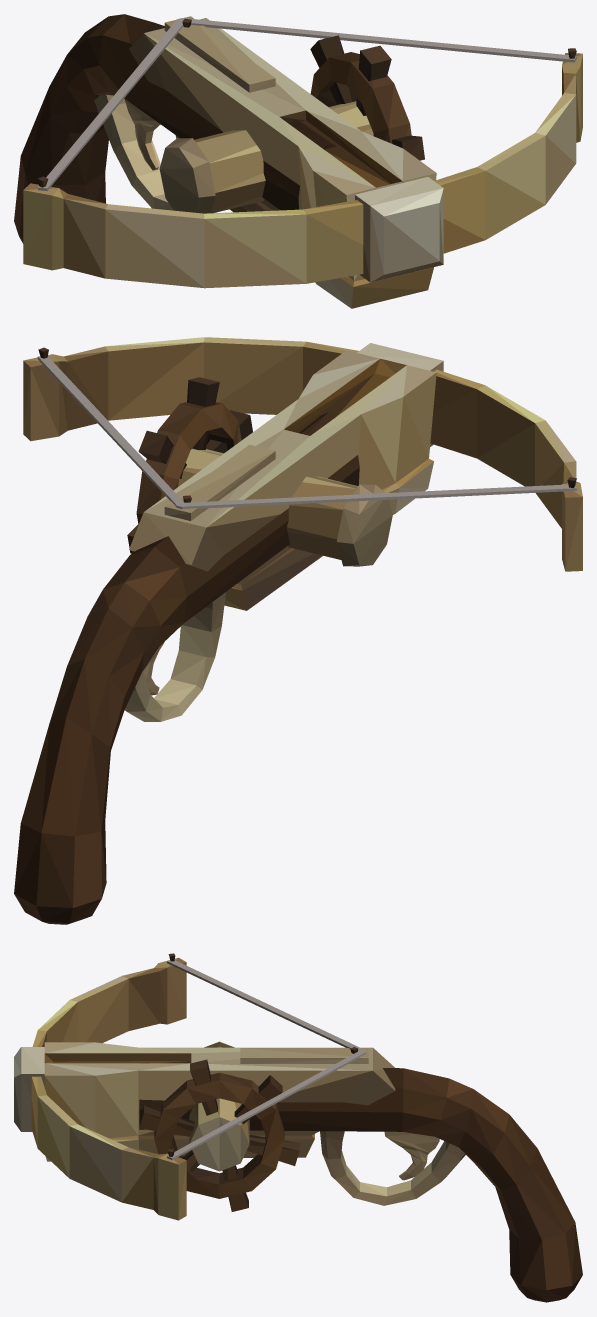
File: weapon_crossbow_gold_1.fbx
3 renders of one model, top to bottom at view 1: azimuth 30°, elevation 25°; view 2: azimuth 150°, elevation 25°; view 3: azimuth 270°, elevation 25°, orthographic. The views are drawn at different scales.
Parts seen in each view (by area): view 1: weapon_crossbow_gold_1; view 2: weapon_crossbow_gold_1; view 3: weapon_crossbow_gold_1.
Boxes of the visible parts, x1,y1,x2,y2 form: weapon_crossbow_gold_1: (14,14,582,308); weapon_crossbow_gold_1: (14,337,582,924); weapon_crossbow_gold_1: (14,953,582,1302).
Size of the model in its own units: 0.8673 by 0.5151 by 1.01.
